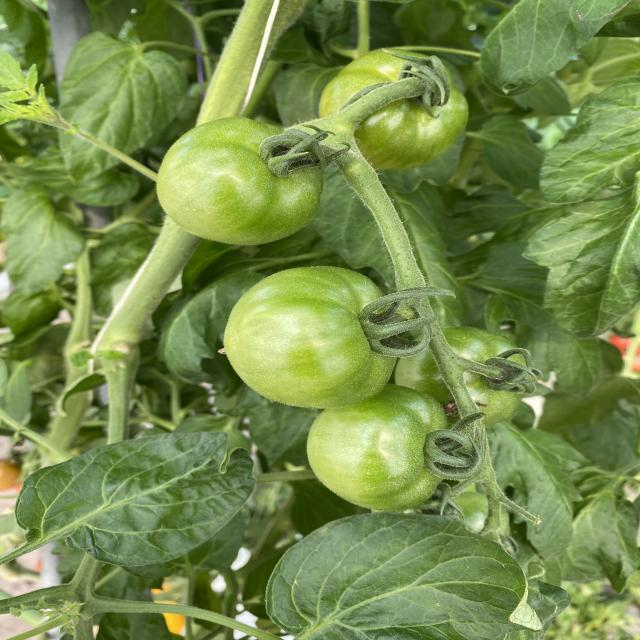yesil: (146, 48, 559, 500)
